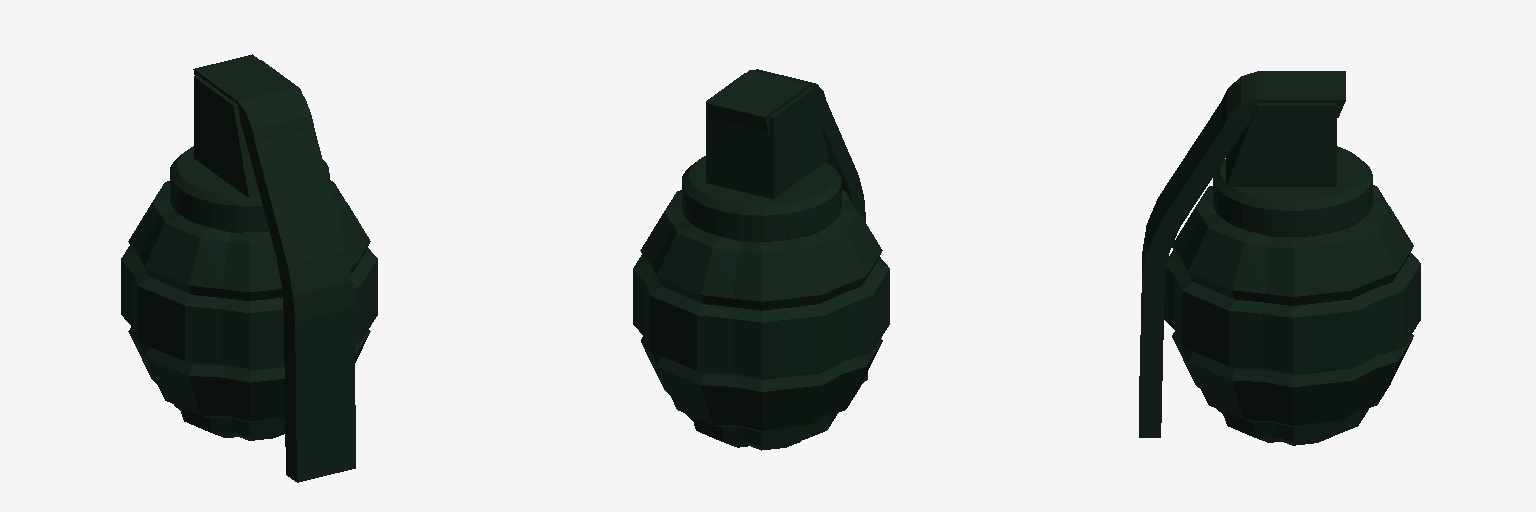
The model's file is grenade.obj.
3 renders of one model, left to right at view 1: azimuth 30°, elevation 25°; view 2: azimuth 150°, elevation 25°; view 3: azimuth 270°, elevation 25°, orthographic.
Visible parts, largest first — view 1: pCylinder4; view 2: pCylinder4; view 3: pCylinder4.
Part boxes in pixels (x1,y1,x2,y2): pCylinder4: (121, 54, 377, 482); pCylinder4: (633, 69, 889, 450); pCylinder4: (1139, 71, 1420, 445).
Size of the model in its own units: 2 by 2.92 by 2.2.